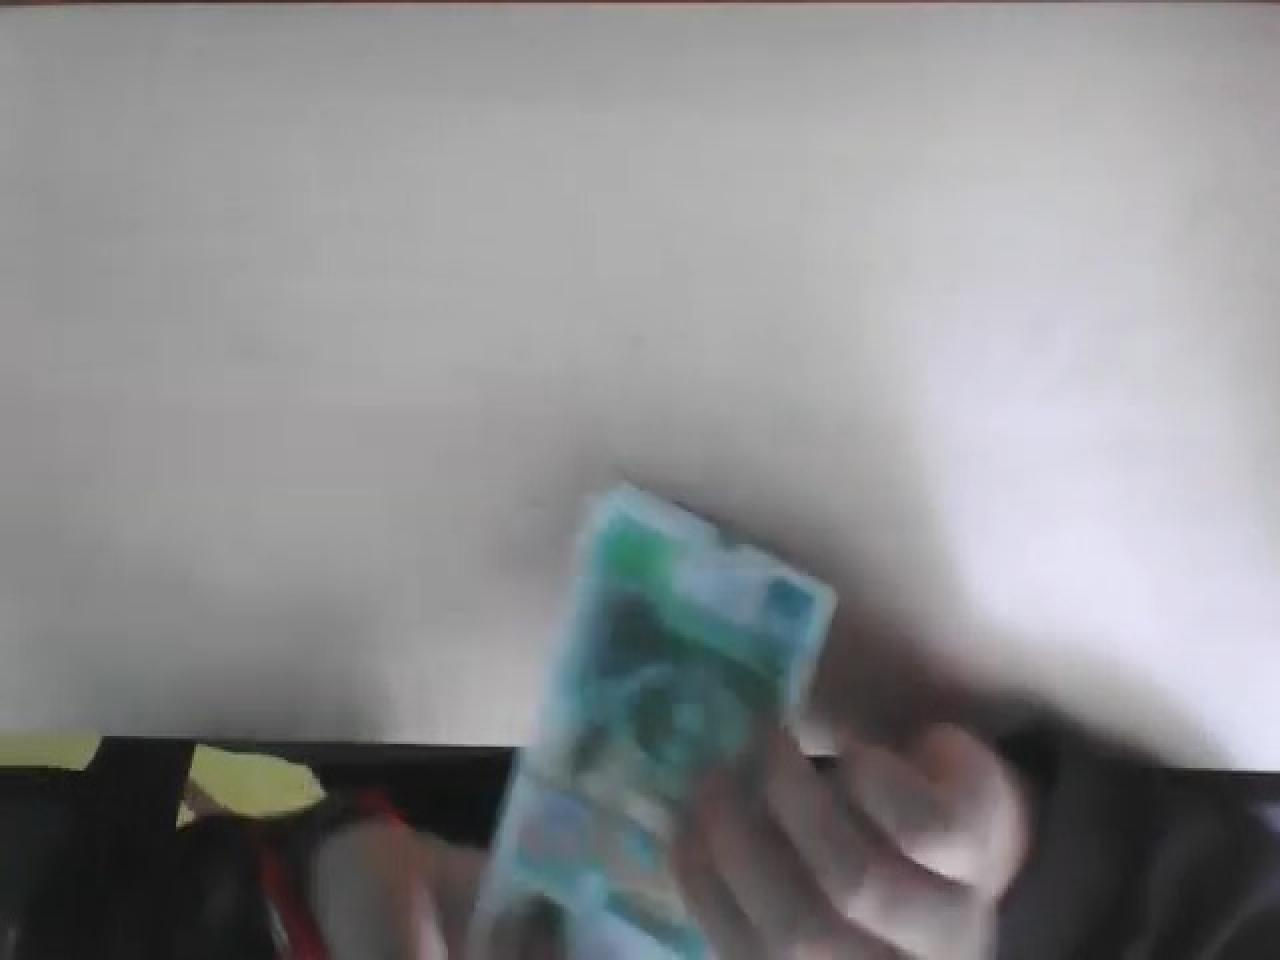100leva: (464, 480, 842, 960)
